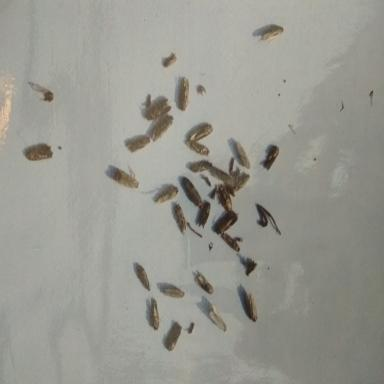pbw: (180, 176, 204, 212), (143, 95, 173, 123), (148, 114, 174, 146), (212, 210, 240, 238), (162, 319, 184, 354), (110, 166, 141, 190), (23, 141, 54, 165), (214, 179, 234, 214), (152, 182, 179, 207), (184, 135, 212, 159), (206, 163, 234, 187), (176, 75, 193, 114), (229, 168, 252, 196), (124, 133, 153, 155), (207, 304, 228, 334), (188, 122, 214, 146), (256, 24, 284, 46), (243, 288, 259, 324), (234, 140, 252, 172), (172, 201, 188, 236), (134, 262, 152, 293), (262, 143, 281, 172), (193, 270, 214, 296), (221, 228, 242, 254), (196, 198, 213, 230), (185, 158, 215, 174), (162, 285, 187, 303), (148, 296, 160, 332), (161, 52, 179, 71), (244, 258, 258, 280), (184, 319, 195, 337)
